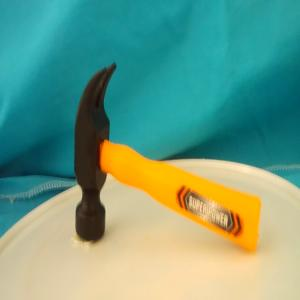martelo: (74, 62, 262, 250)
